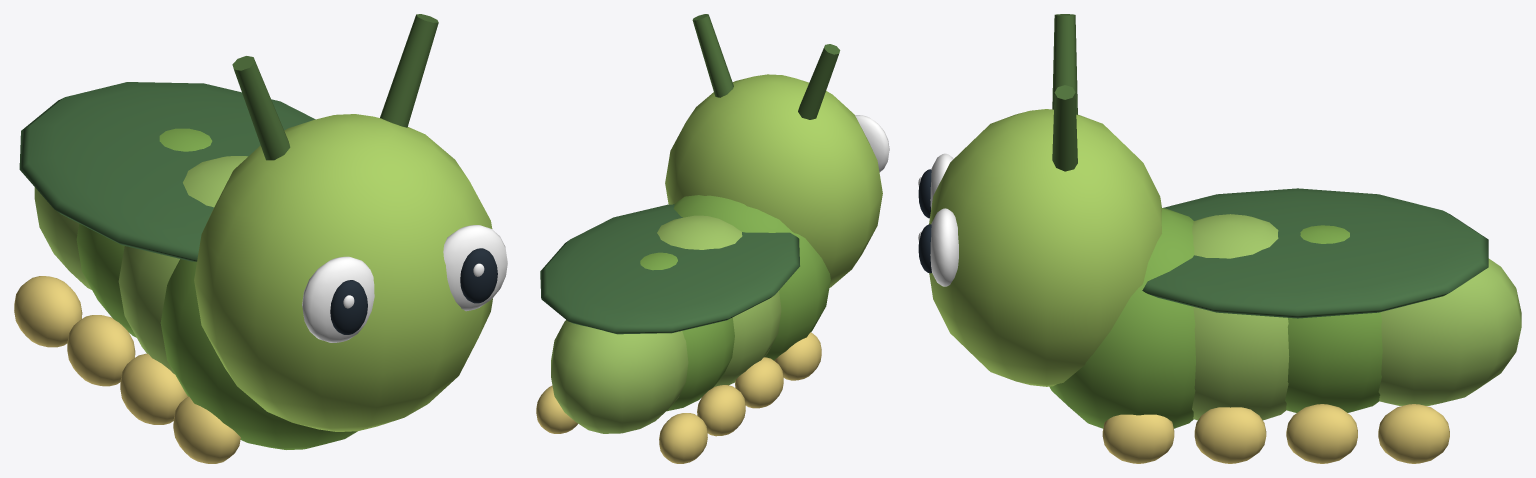
The picture shows the model from 3 angles, left to right: view 1: azimuth 30°, elevation 25°; view 2: azimuth 150°, elevation 25°; view 3: azimuth 270°, elevation 25°; orthographic projection. The views are drawn at different scales.
Visible parts, largest first — view 1: creature_13; view 2: creature_13; view 3: creature_13.
Part boxes in pixels (x1,y1,x2,y2): creature_13: (14,14,507,463); creature_13: (536,14,889,463); creature_13: (918,14,1521,463).
Size of the model in its own units: 0.624 by 0.8787 by 1.28.
